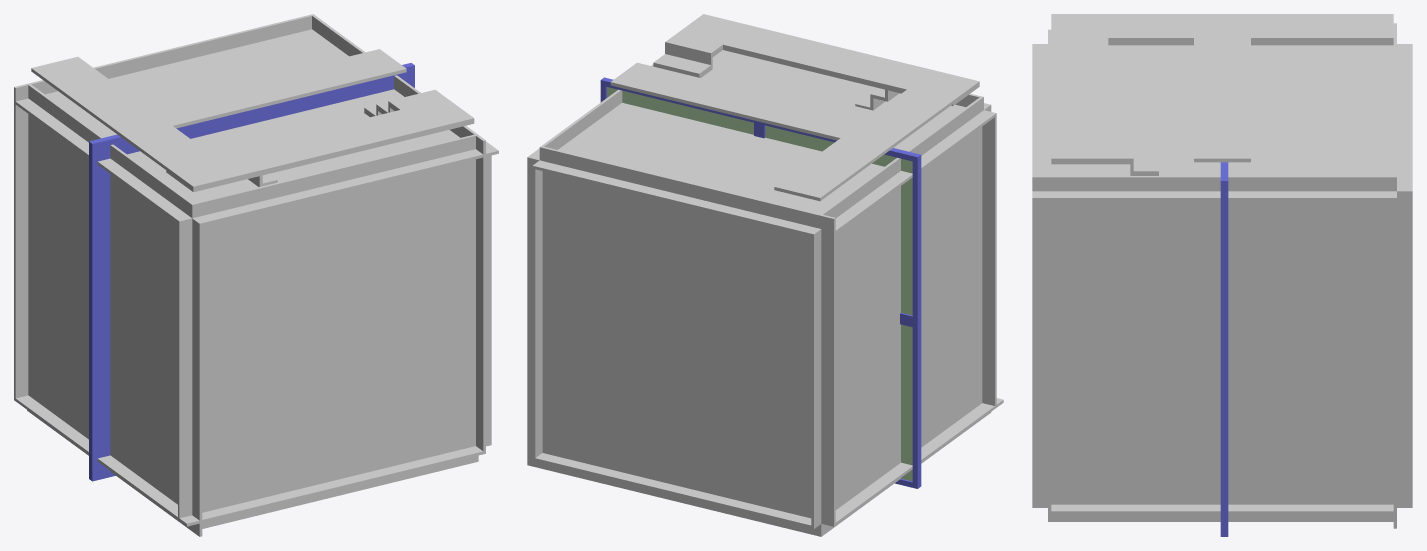
File: building_tiles.fbx
The picture shows the model from 3 angles, left to right: view 1: azimuth 30°, elevation 25°; view 2: azimuth 150°, elevation 25°; view 3: azimuth 270°, elevation 25°; orthographic projection. The views are drawn at different scales.
Parts seen in each view (by area): view 1: 4junction_vertical, corridor_vertical, turn_horizontal, Tjunction_up, Tjunction_horizontal, corridor_horizontal, window_tile_old, stairs, stairs3p, walkway, turn_up, 5junction_up (+7 smaller); view 2: turn_down, 4junction_vertical, 3junction_up, corridor_vertical, turn_horizontal, 4junction_horizontal, turn_up, Tjunction_up, corridor_horizontal, 5junction_horizontal, Tjunction_horizontal, window_tile_old (+7 smaller); view 3: corridor_horizontal, corridor_vertical, Tjunction_up, 3junction_up, turn_horizontal, Tjunction_horizontal, turn_down, stairs, turn_up, stairs3p, walkway, 4junction_vertical (+7 smaller).
Boxes of the visible parts, <box> form: 4junction_vertical: <box>14,14,491,527</box>; corridor_vertical: <box>28,16,478,525</box>; turn_horizontal: <box>28,31,485,520</box>; Tjunction_up: <box>28,85,388,521</box>; Tjunction_horizontal: <box>28,29,485,449</box>; corridor_horizontal: <box>65,30,485,523</box>; window_tile_old: <box>89,63,414,481</box>; stairs: <box>31,56,280,189</box>; stairs3p: <box>166,89,474,192</box>; walkway: <box>146,49,406,128</box>; turn_up: <box>28,154,485,516</box>; 5junction_up: <box>14,121,483,520</box>; turn_down: <box>542,50,982,535</box>; 4junction_vertical: <box>527,64,996,536</box>; 3junction_up: <box>540,148,1003,526</box>; corridor_vertical: <box>539,90,983,531</box>; turn_horizontal: <box>528,50,991,420</box>; 4junction_horizontal: <box>527,106,996,528</box>; turn_up: <box>539,103,982,463</box>; Tjunction_up: <box>533,93,990,528</box>; corridor_horizontal: <box>532,50,872,350</box>; 5junction_horizontal: <box>540,91,991,536</box>; Tjunction_horizontal: <box>528,51,965,420</box>; window_tile_old: <box>600,77,921,488</box>; corridor_horizontal: <box>1032,128,1412,507</box>; corridor_vertical: <box>1048,116,1393,521</box>; Tjunction_up: <box>1032,29,1412,369</box>; 3junction_up: <box>1032,23,1396,363</box>; turn_horizontal: <box>1032,45,1396,511</box>; Tjunction_horizontal: <box>1048,45,1412,510</box>; turn_down: <box>1032,128,1393,521</box>; stairs: <box>1051,14,1393,49</box>; turn_up: <box>1032,93,1393,400</box>; stairs3p: <box>1051,49,1184,175</box>; walkway: <box>1194,38,1250,162</box>; 4junction_vertical: <box>1048,29,1396,521</box>.
Size of the model in its own units: 103 by 107 by 100.
